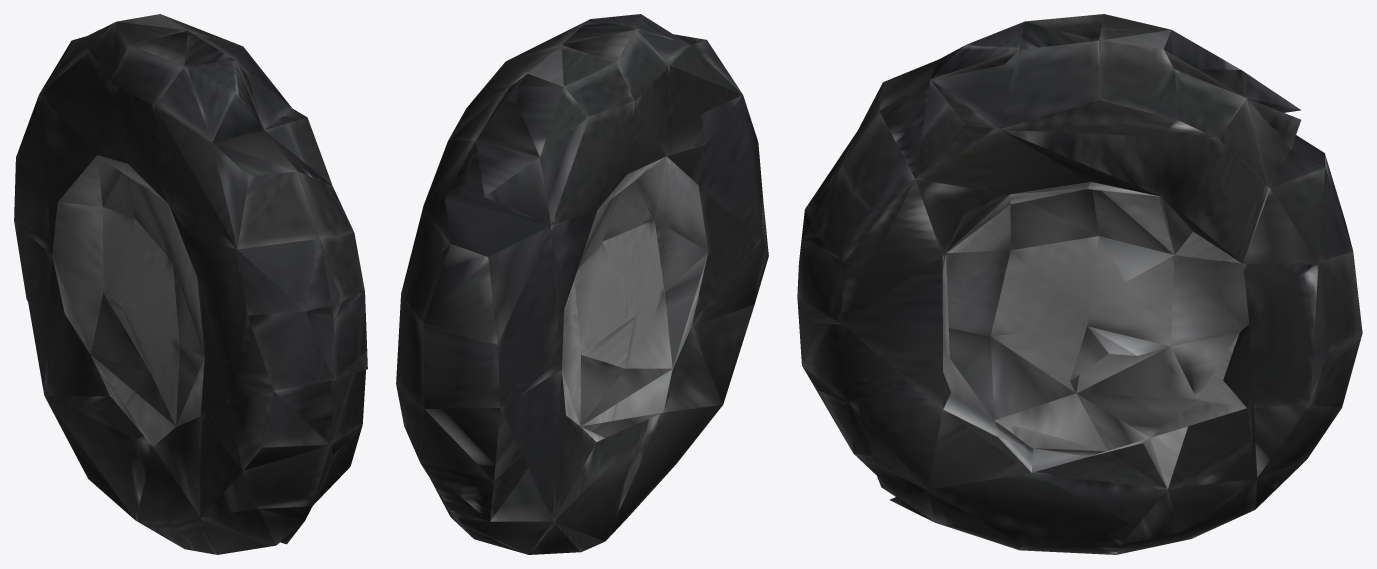
The model's file is shared_flight_deck_ordnance_tractor__wheel_lod2.glb.
3 views of the same model, side by side, from view 1: azimuth 30°, elevation 25°; view 2: azimuth 150°, elevation 25°; view 3: azimuth 270°, elevation 25° (orthographic). The views are drawn at different scales.
Parts seen in each view (by area): view 1: mesh_node; view 2: mesh_node; view 3: mesh_node.
Boxes of the visible parts, box(x1,y1,x2,y2) form: mesh_node: box(14, 14, 367, 554); mesh_node: box(396, 14, 768, 554); mesh_node: box(797, 14, 1362, 554).
Size of the model in its own units: 0.2588 by 0.8944 by 0.8931.
Materials: 1 (1 with a texture image).
